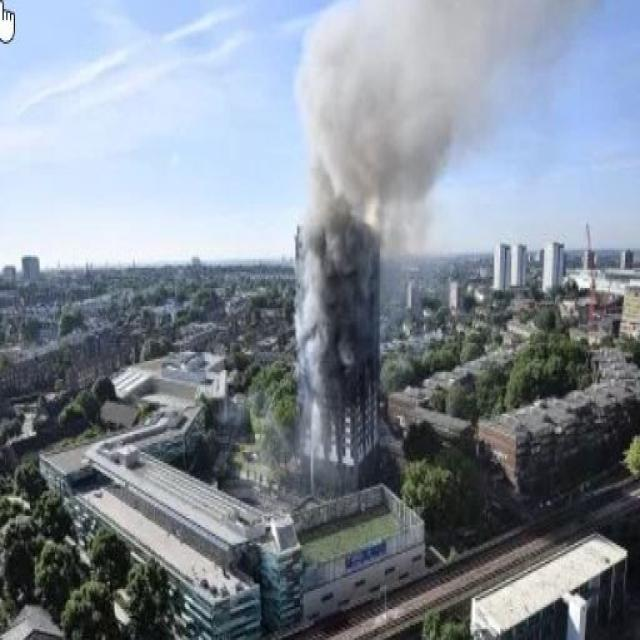Smoke: (291, 42, 428, 427)
